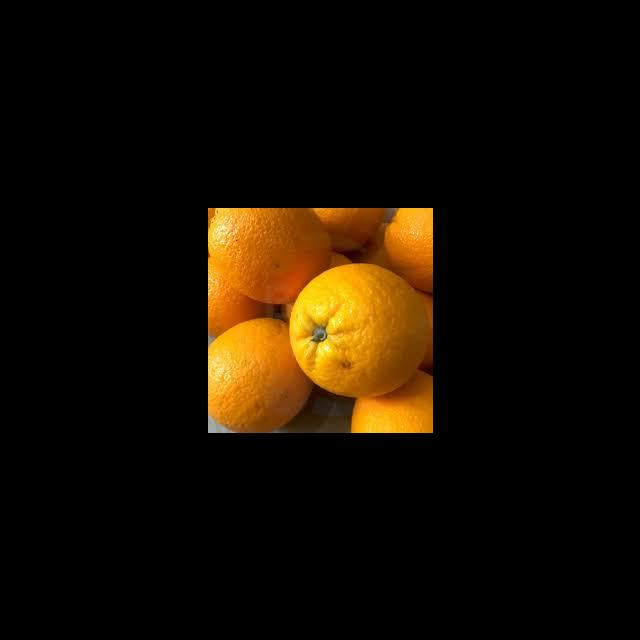orange: (279, 257, 429, 397), (192, 189, 335, 297), (187, 320, 318, 431), (158, 244, 283, 341), (258, 247, 366, 339), (350, 362, 453, 458), (332, 204, 435, 298), (371, 279, 463, 380), (383, 192, 475, 281), (308, 187, 389, 248)
